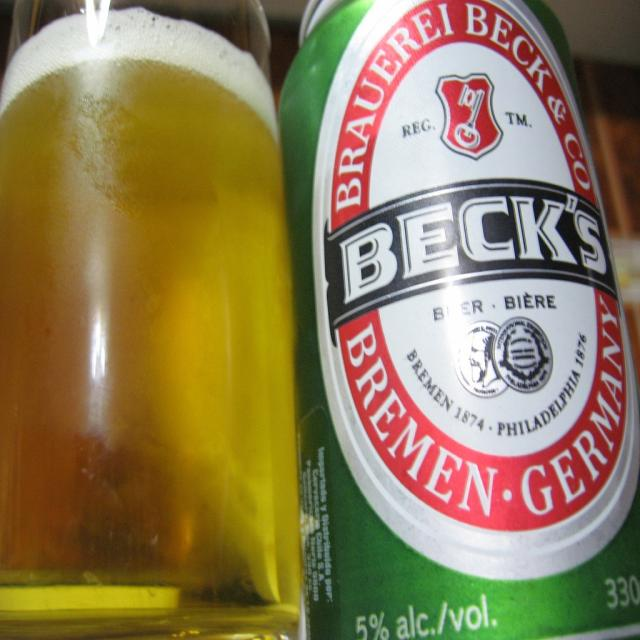becks: (311, 2, 640, 586)
